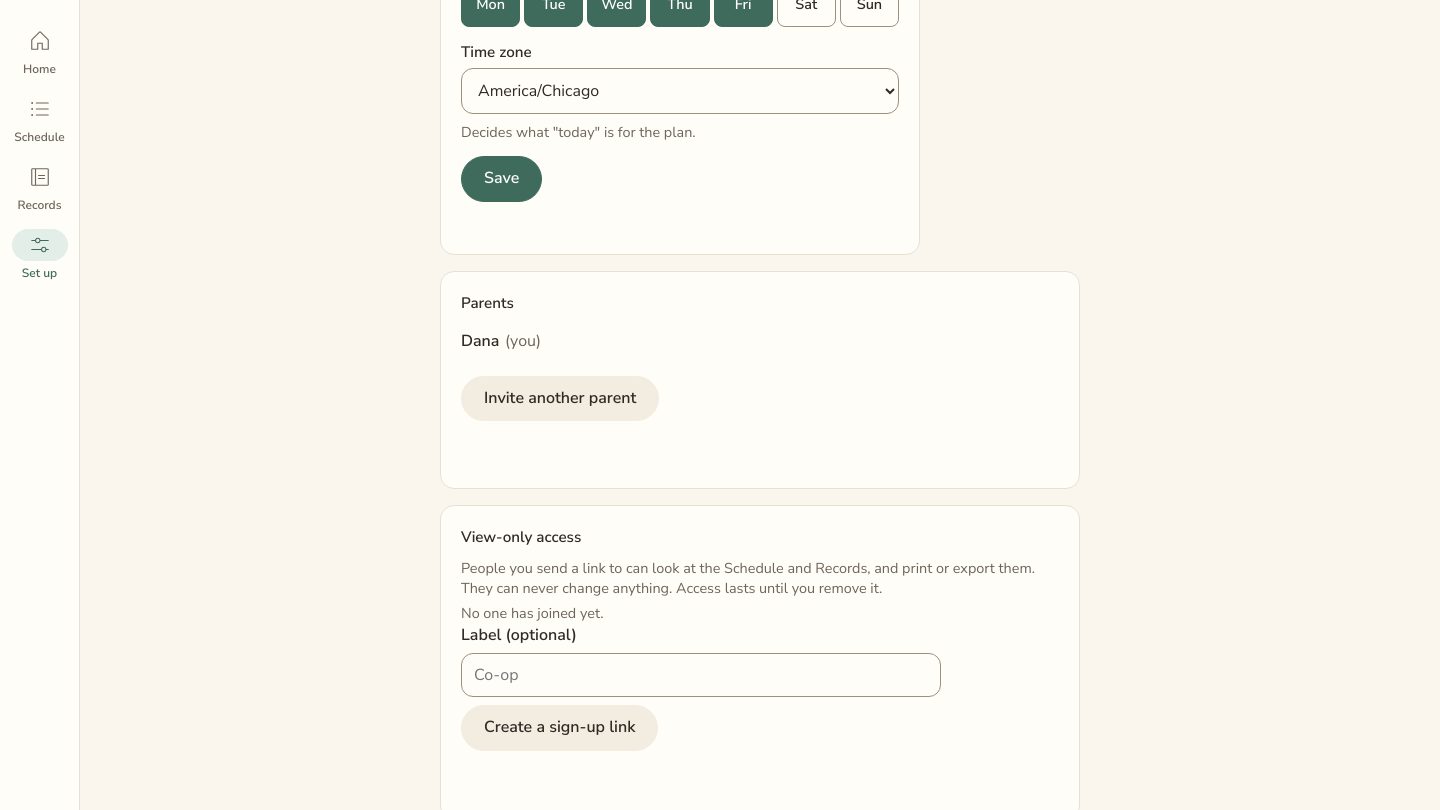
Test case: 5. A throttled invite or join says to wait › an invite for another parent
(page scrolled)
Click the button "Invite another parent" at (560, 399), box x1=461 y1=376 x2=659 y2=421
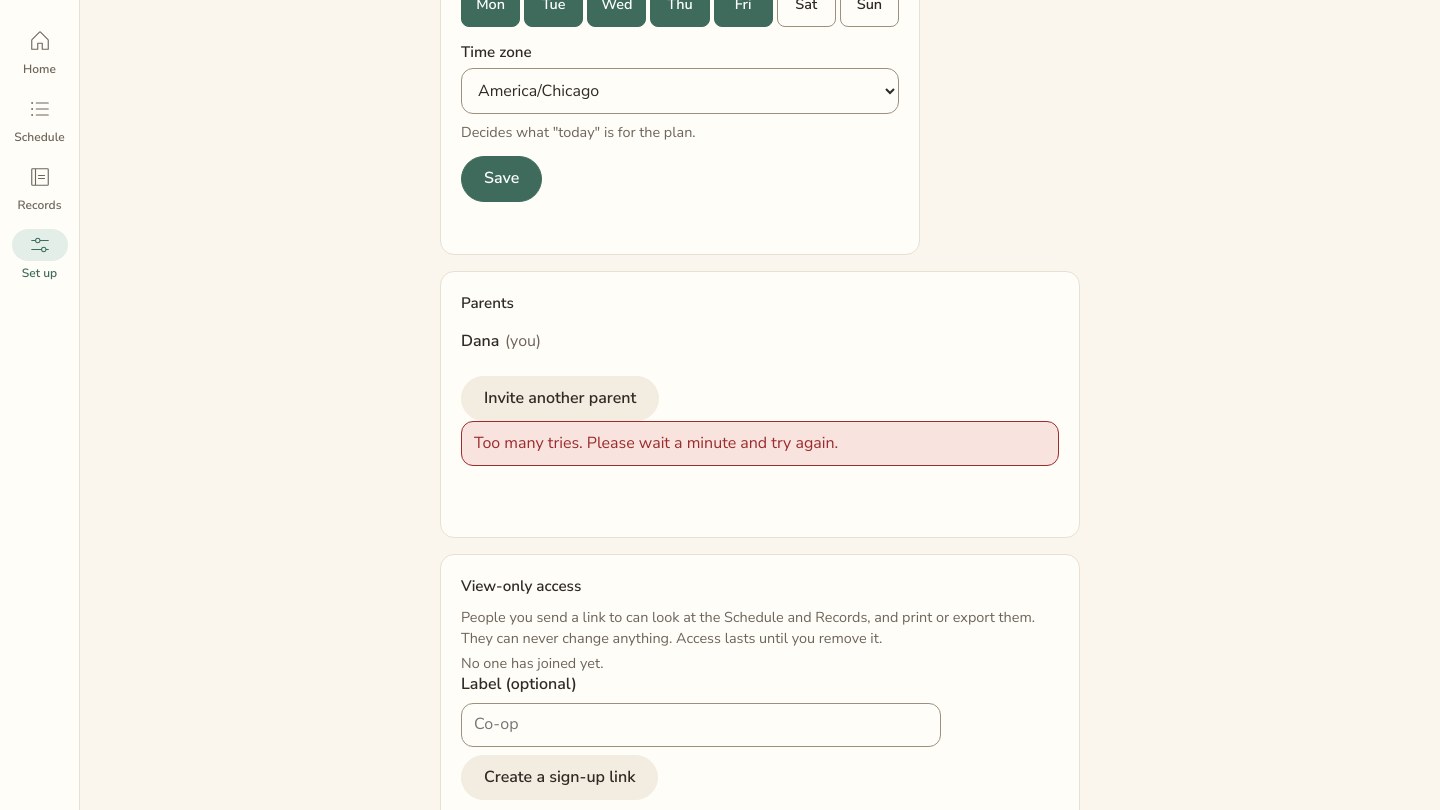
Expected: the text "Too many tries. Please wait a minute and try again." is shown, x1=461 y1=421 x2=1059 y2=466
